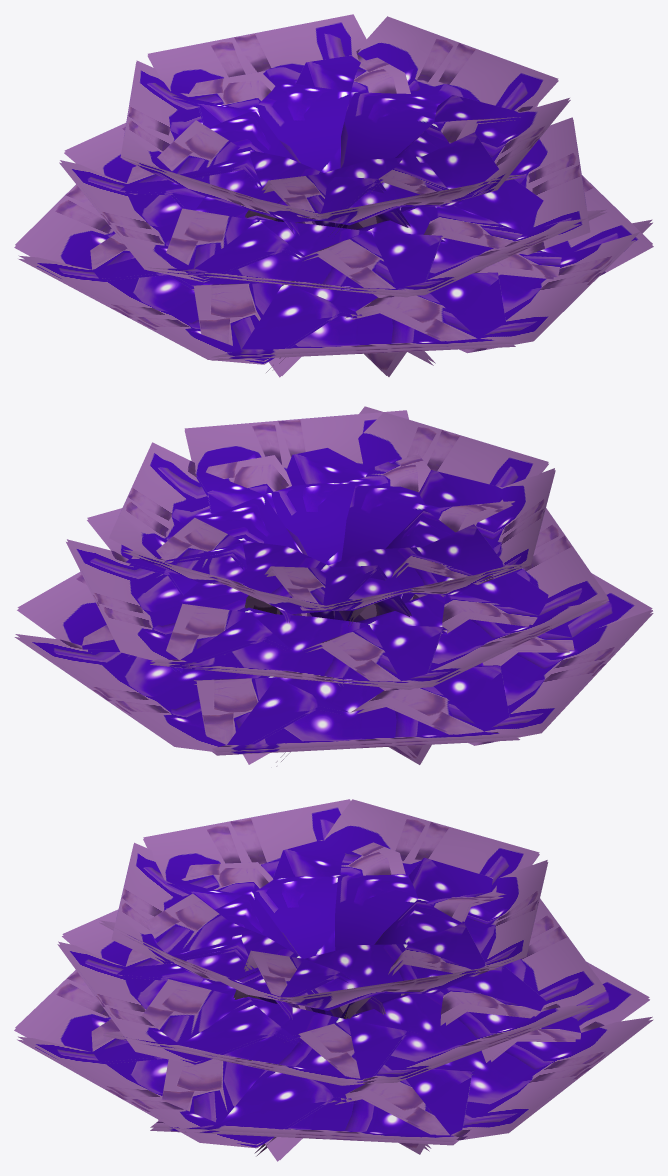
Rendered from Plant_016.fbx.
3 renders of one model, top to bottom at view 1: azimuth 30°, elevation 25°; view 2: azimuth 150°, elevation 25°; view 3: azimuth 270°, elevation 25°, orthographic.
Parts seen in each view (by area): view 1: Plant_016; view 2: Plant_016; view 3: Plant_016.
Boxes of the visible parts, box(x1,y1,x2,y2) form: Plant_016: box(14, 14, 653, 377); Plant_016: box(14, 406, 653, 766); Plant_016: box(14, 799, 653, 1161).
Size of the model in its own units: 437 by 164 by 468.
